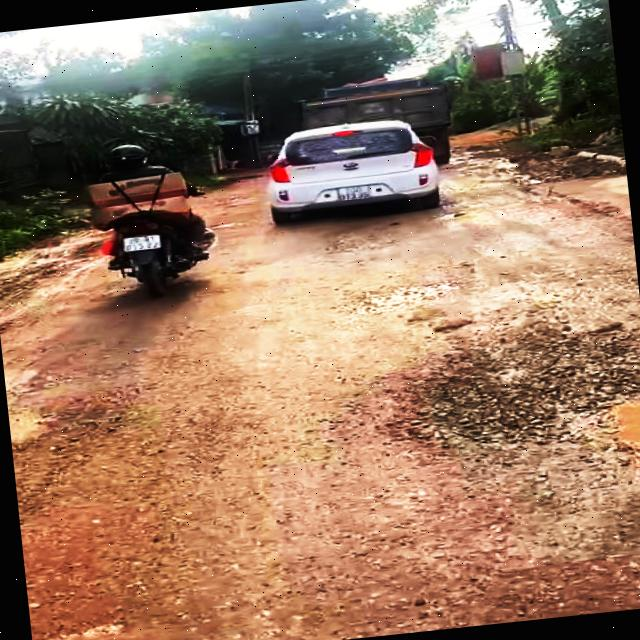pothole: (389, 313, 640, 488)
